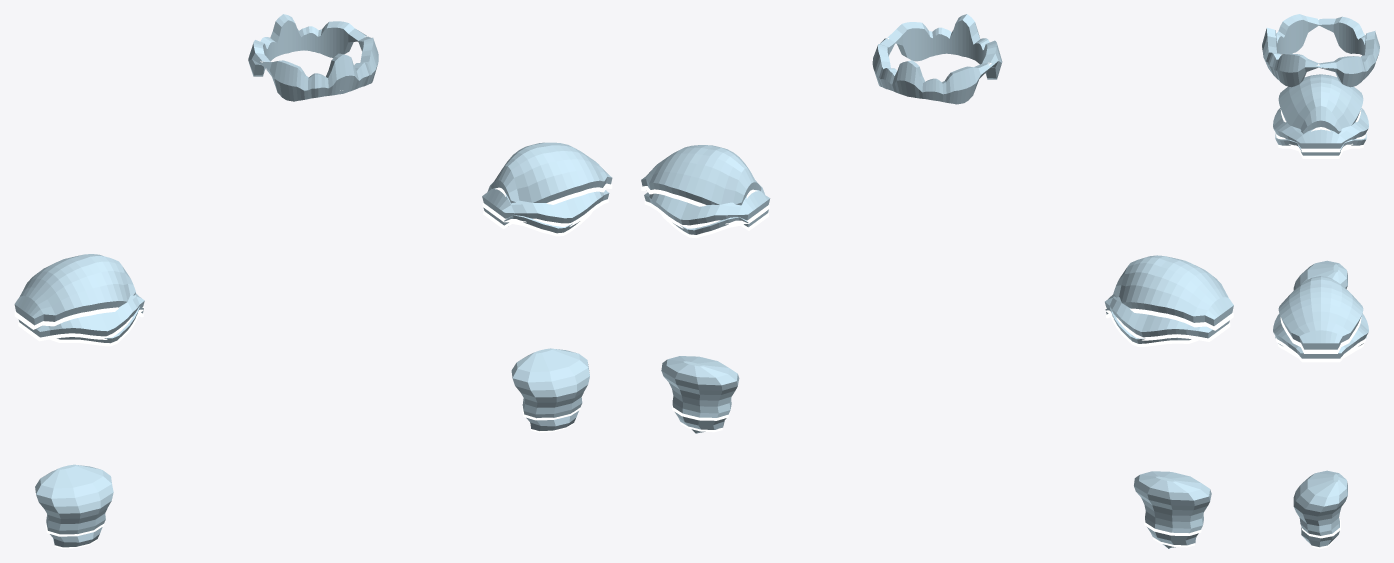
Rendered from FrostTitanArmour.fbx.
3 views of the same model, side by side, from view 1: azimuth 30°, elevation 25°; view 2: azimuth 150°, elevation 25°; view 3: azimuth 270°, elevation 25° (orthographic). The views are drawn at different scales.
Parts seen in each view (by area): view 1: PauldronL, PauldronR, IceCrown.001, BracerL.001, BracerR.001, PauldronLGlow, PauldronRGlow; view 2: PauldronL, PauldronR, IceCrown.001, BracerR.001, BracerL.001, PauldronLGlow, PauldronRGlow; view 3: PauldronL, PauldronR, IceCrown.001, BracerR.001, PauldronRGlow, BracerL.001, PauldronLGlow, BracerRGlow.
Part boxes in pixels (x1,y1,x2,y2): PauldronL: [14, 254, 144, 343]; PauldronR: [482, 142, 612, 233]; IceCrown.001: [248, 14, 378, 101]; BracerL.001: [35, 464, 113, 547]; BracerR.001: [511, 348, 589, 430]; PauldronLGlow: [14, 306, 144, 346]; PauldronRGlow: [482, 183, 612, 236]; PauldronL: [1105, 255, 1233, 343]; PauldronR: [641, 145, 770, 234]; IceCrown.001: [872, 14, 1002, 104]; BracerR.001: [661, 356, 739, 433]; BracerL.001: [1134, 471, 1211, 548]; PauldronLGlow: [1105, 307, 1233, 346]; PauldronRGlow: [641, 186, 769, 238]; PauldronL: [1273, 74, 1368, 155]; PauldronR: [1273, 276, 1368, 358]; IceCrown.001: [1262, 14, 1379, 87]; BracerR.001: [1293, 470, 1347, 547]; PauldronRGlow: [1276, 317, 1365, 362]; BracerL.001: [1293, 260, 1347, 290]; PauldronLGlow: [1276, 109, 1365, 158]; BracerRGlow: [1302, 519, 1340, 548].
Size of the model in its own units: 14.58 by 10.97 by 2.85.
